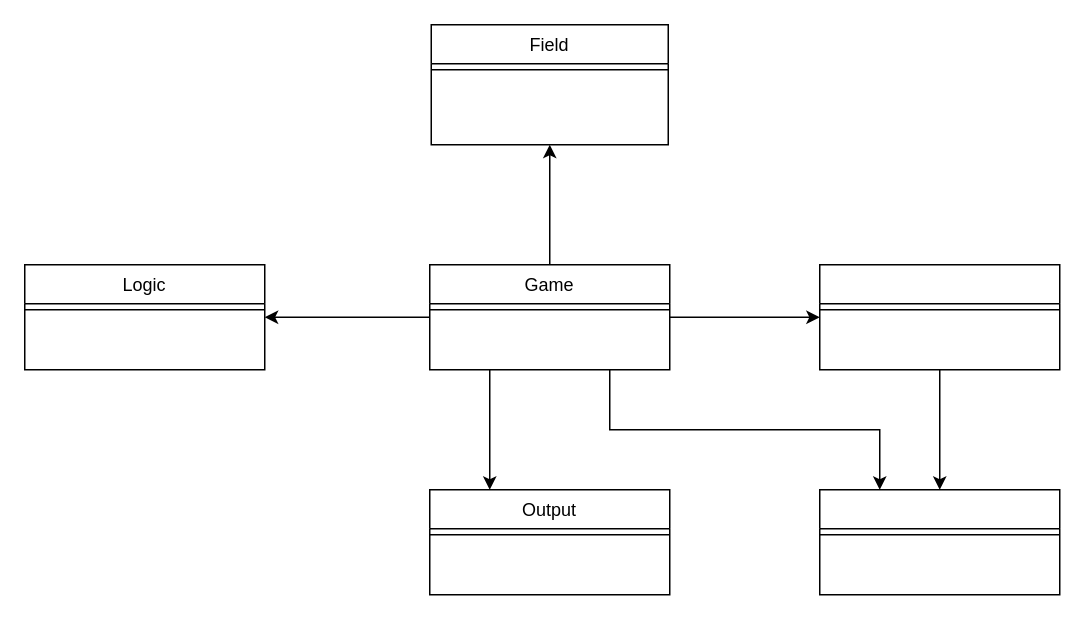
This 1085x620 diagram has some shape labels left out. Here are the shapes that lost their labels. From the top down, the box of each, then its label:
(818, 263, 1060, 370): Player
(818, 488, 1060, 595): Input
